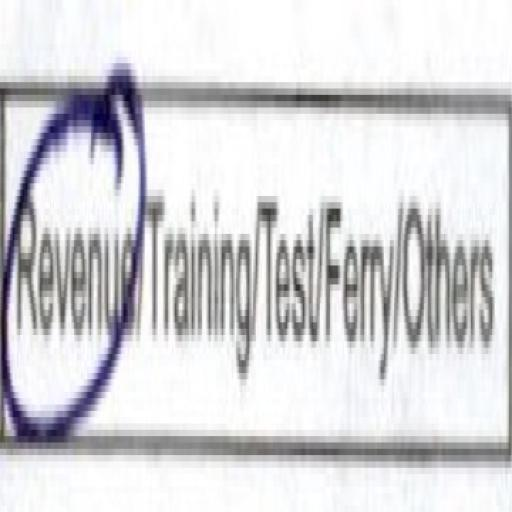check: (0, 9, 144, 463)
